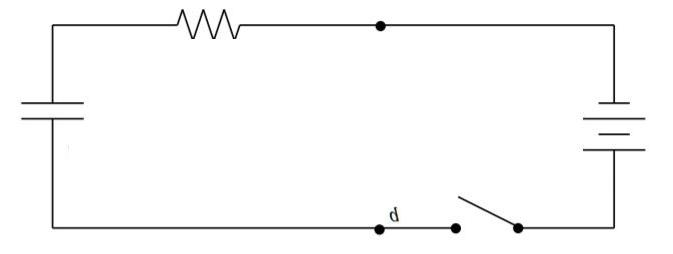resistor: (139, 0, 280, 54)
